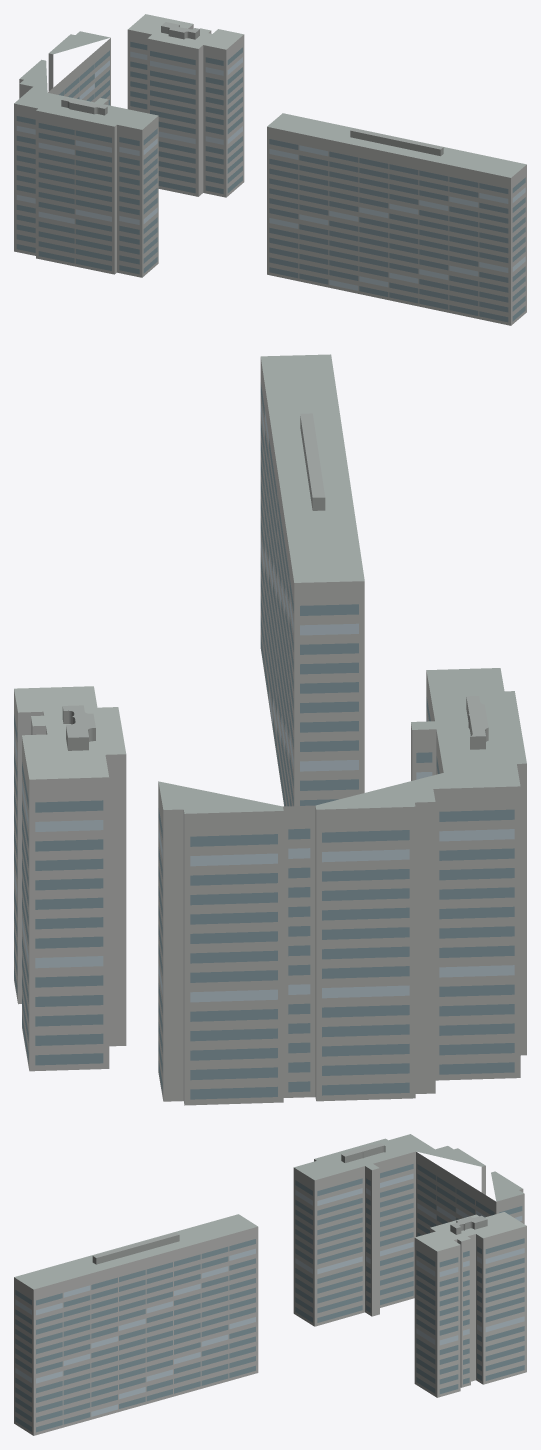
Rendered from apt-a13880204.glb.
3 views of the same model, one above another, from view 1: azimuth 30°, elevation 25°; view 2: azimuth 150°, elevation 25°; view 3: azimuth 270°, elevation 25° (orthographic). The views are drawn at different scales.
Visible parts, largest first — view 1: apt-a13880204; view 2: apt-a13880204; view 3: apt-a13880204.
Boxes of the visible parts, box(x1,y1,x2,y2) form: apt-a13880204: box(14, 14, 526, 325); apt-a13880204: box(14, 354, 526, 1105); apt-a13880204: box(14, 1134, 526, 1435).
Size of the model in its own units: 104 by 47.81 by 145.
